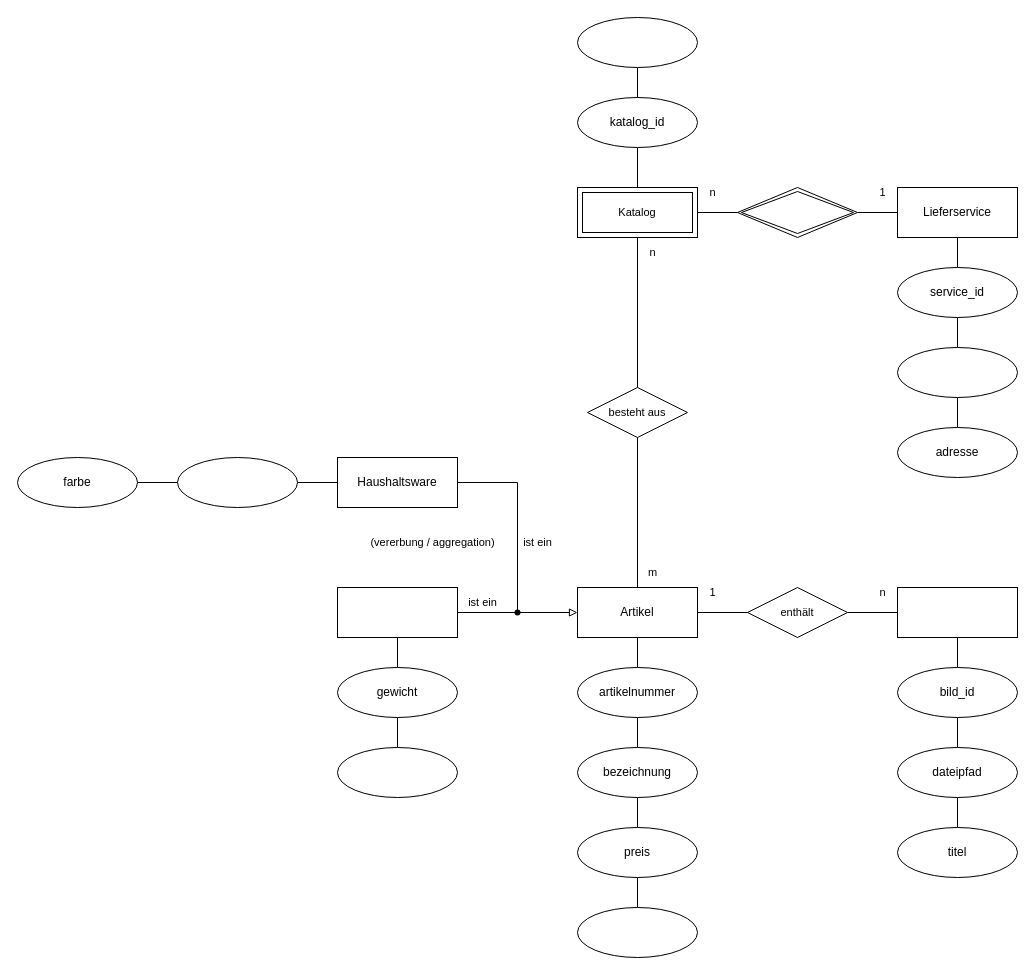
This 1035x975 diagram has some shape labels left out. Here are the shapes that lost their labels. From the top down, the centre of each, then its label:
At pixel 637 42: "katalog_name".
At pixel 797 212: "bietet an".
At pixel 957 372: "srvice_name".
At pixel 237 482: "garantie_bis".
At pixel 397 612: "Lebensmittel".
At pixel 957 612: "Bild".
At pixel 397 772: "zusammensetzung".
At pixel 637 932: "beschreibung".
